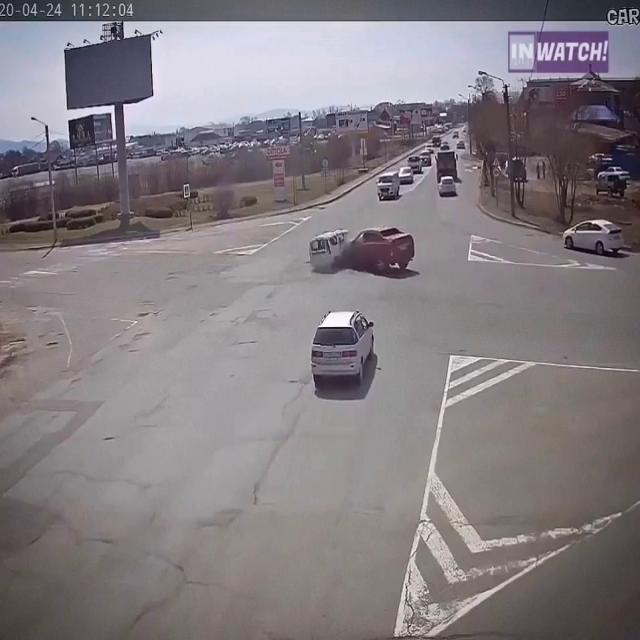accident: (308, 228, 416, 276)
